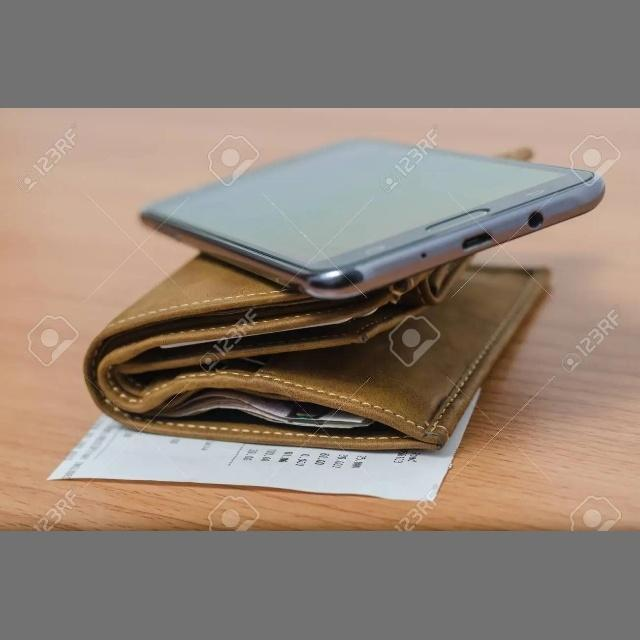Wallet: (83, 250, 549, 452)
